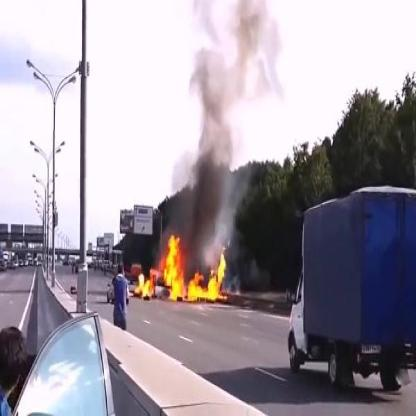fire: (161, 230, 227, 306), (133, 272, 153, 300)
